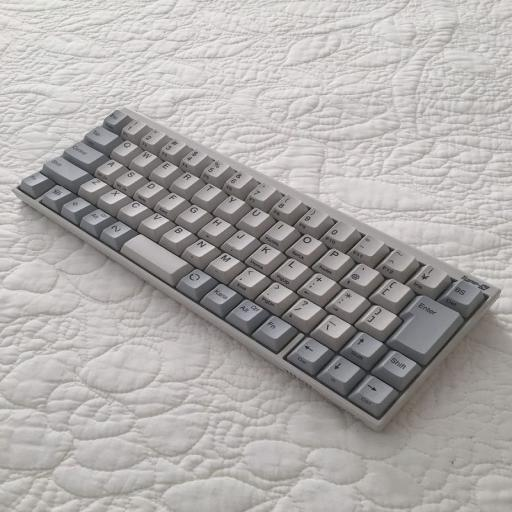KEYBOARD-2: (18, 88, 502, 506)
